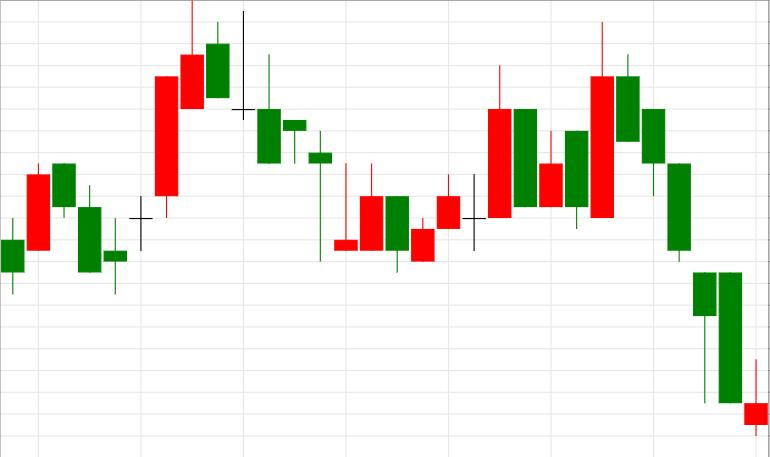hammer_rise: (617, 54, 716, 404)
inverse_hammer_rise: (617, 54, 768, 436)
